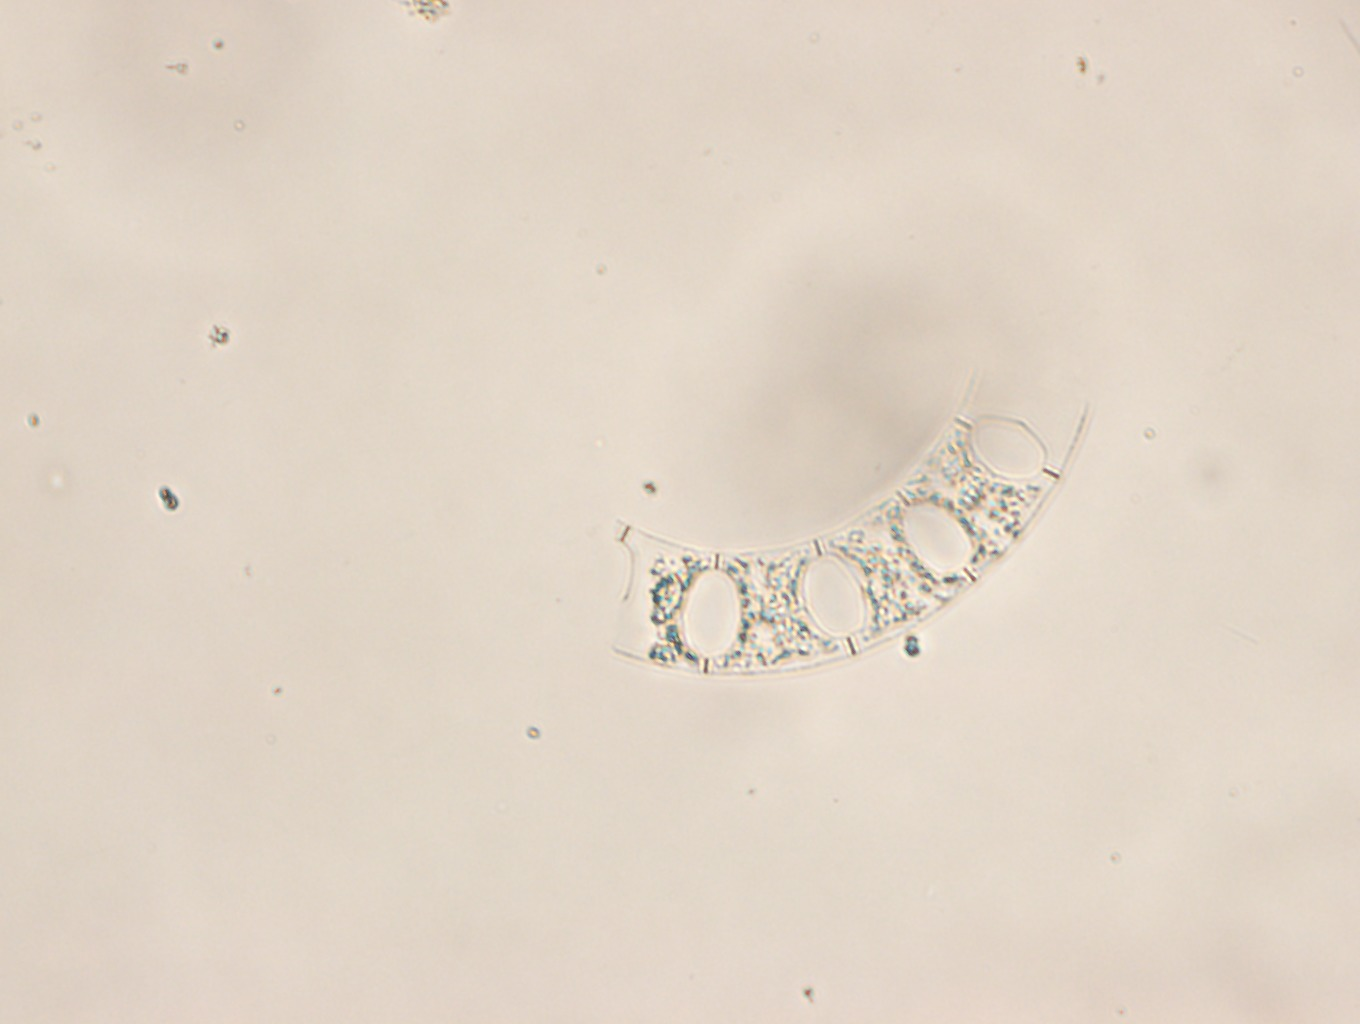eucampia: (605, 362, 1092, 678)
